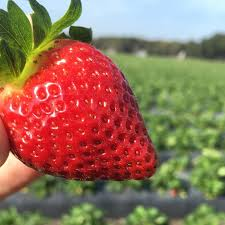ripe: (3, 34, 160, 184)
